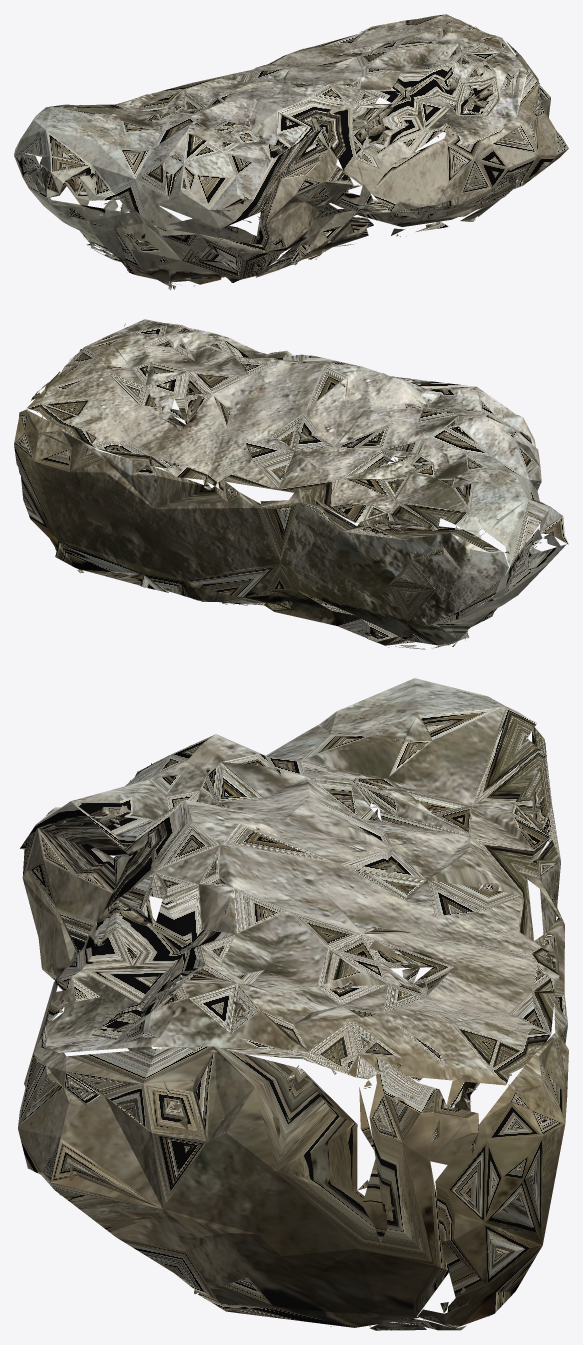
The model's file is FRAG-S1-FS-006.glb.
3 renders of one model, top to bottom at view 1: azimuth 30°, elevation 25°; view 2: azimuth 150°, elevation 25°; view 3: azimuth 270°, elevation 25°, orthographic. The views are drawn at different scales.
Parts seen in each view (by area): view 1: geometry_0; view 2: geometry_0; view 3: geometry_0.
Boxes of the visible parts, x1,y1,x2,y2 form: geometry_0: [14, 14, 568, 289]; geometry_0: [14, 319, 568, 649]; geometry_0: [18, 678, 568, 1330].
Size of the model in its own units: 1.72 by 0.5957 by 0.9209.
1 material, 1 textured.
